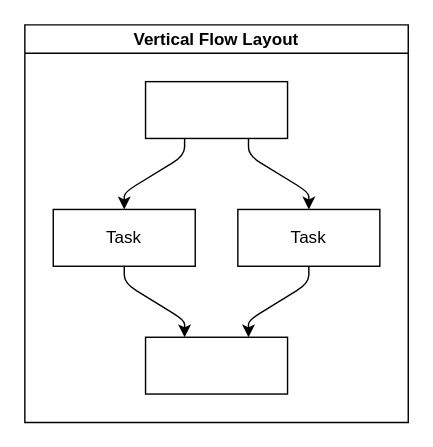
This 433x447 diagram has some shape labels left out. The box of each missing label's shape, as (x1, y1, x2, y2) in pixels:
End: (144, 336, 288, 394)
Start: (144, 80, 288, 138)
